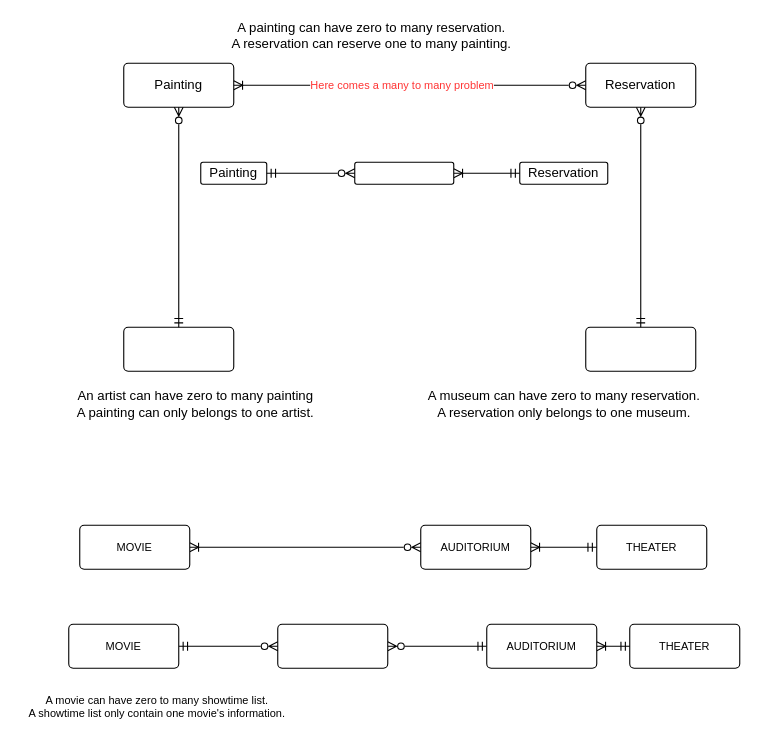
Image size: 759x741. Some labels were removed from this diagram. The shapes that lost their labels are listed below. From the top down, each one's centre as x and y in pixels, then its label:
At pixel 404 172: "Reservation_Detail".
At pixel 178 348: "Artist".
At pixel 640 348: "Museum".
At pixel 332 645: "SHOWTIME".
